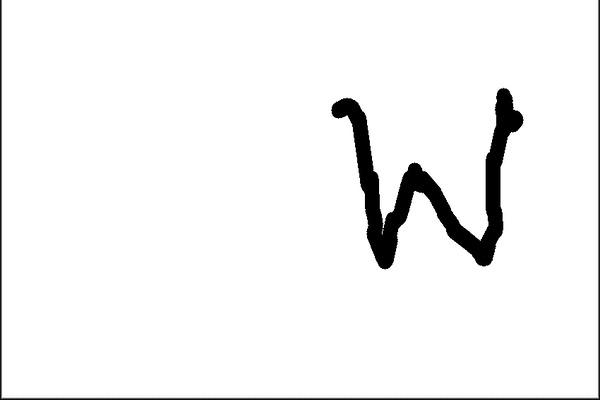w: (299, 72, 529, 282)
